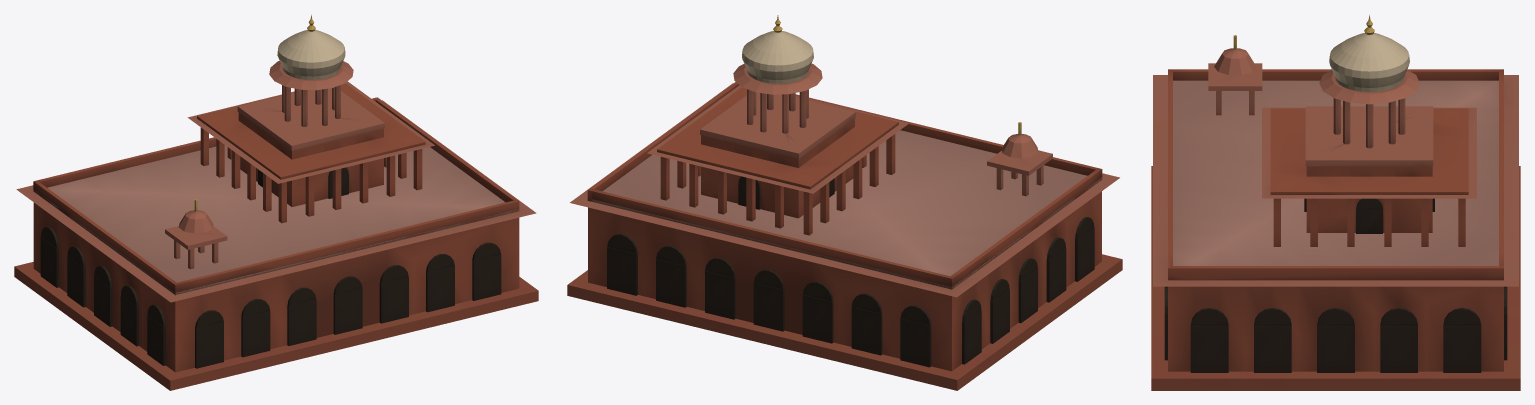
Rendered from khwabgah.glb.
3 renders of one model, left to right at view 1: azimuth 30°, elevation 25°; view 2: azimuth 150°, elevation 25°; view 3: azimuth 270°, elevation 25°, orthographic. The views are drawn at different scales.
Parts seen in each view (by area): view 1: p0_lower storey, p1_the sleeping chamber, p2_kiosk; view 2: p0_lower storey, p1_the sleeping chamber, p2_kiosk; view 3: p0_lower storey, p1_the sleeping chamber, p2_kiosk.
Boxes of the visible parts, left/top/right/bottom form: p0_lower storey: left=14, top=97, right=538, bottom=390; p1_the sleeping chamber: left=165, top=81, right=434, bottom=269; p2_kiosk: left=237, top=14, right=384, bottom=150; p0_lower storey: left=567, top=82, right=1122, bottom=390; p1_the sleeping chamber: left=647, top=85, right=1052, bottom=235; p2_kiosk: left=700, top=15, right=855, bottom=158; p0_lower storey: left=1151, top=69, right=1520, bottom=390; p1_the sleeping chamber: left=1208, top=35, right=1476, bottom=246; p2_kiosk: left=1305, top=15, right=1433, bottom=166.
Size of the model in its own units: 30 by 19.64 by 22.
